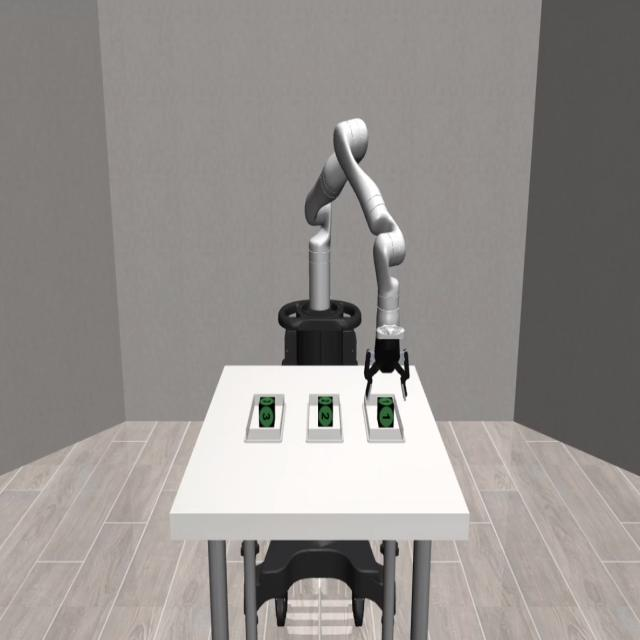cube1: (376, 397, 396, 428)
cube2: (318, 394, 334, 429)
cube3: (259, 393, 275, 429)
